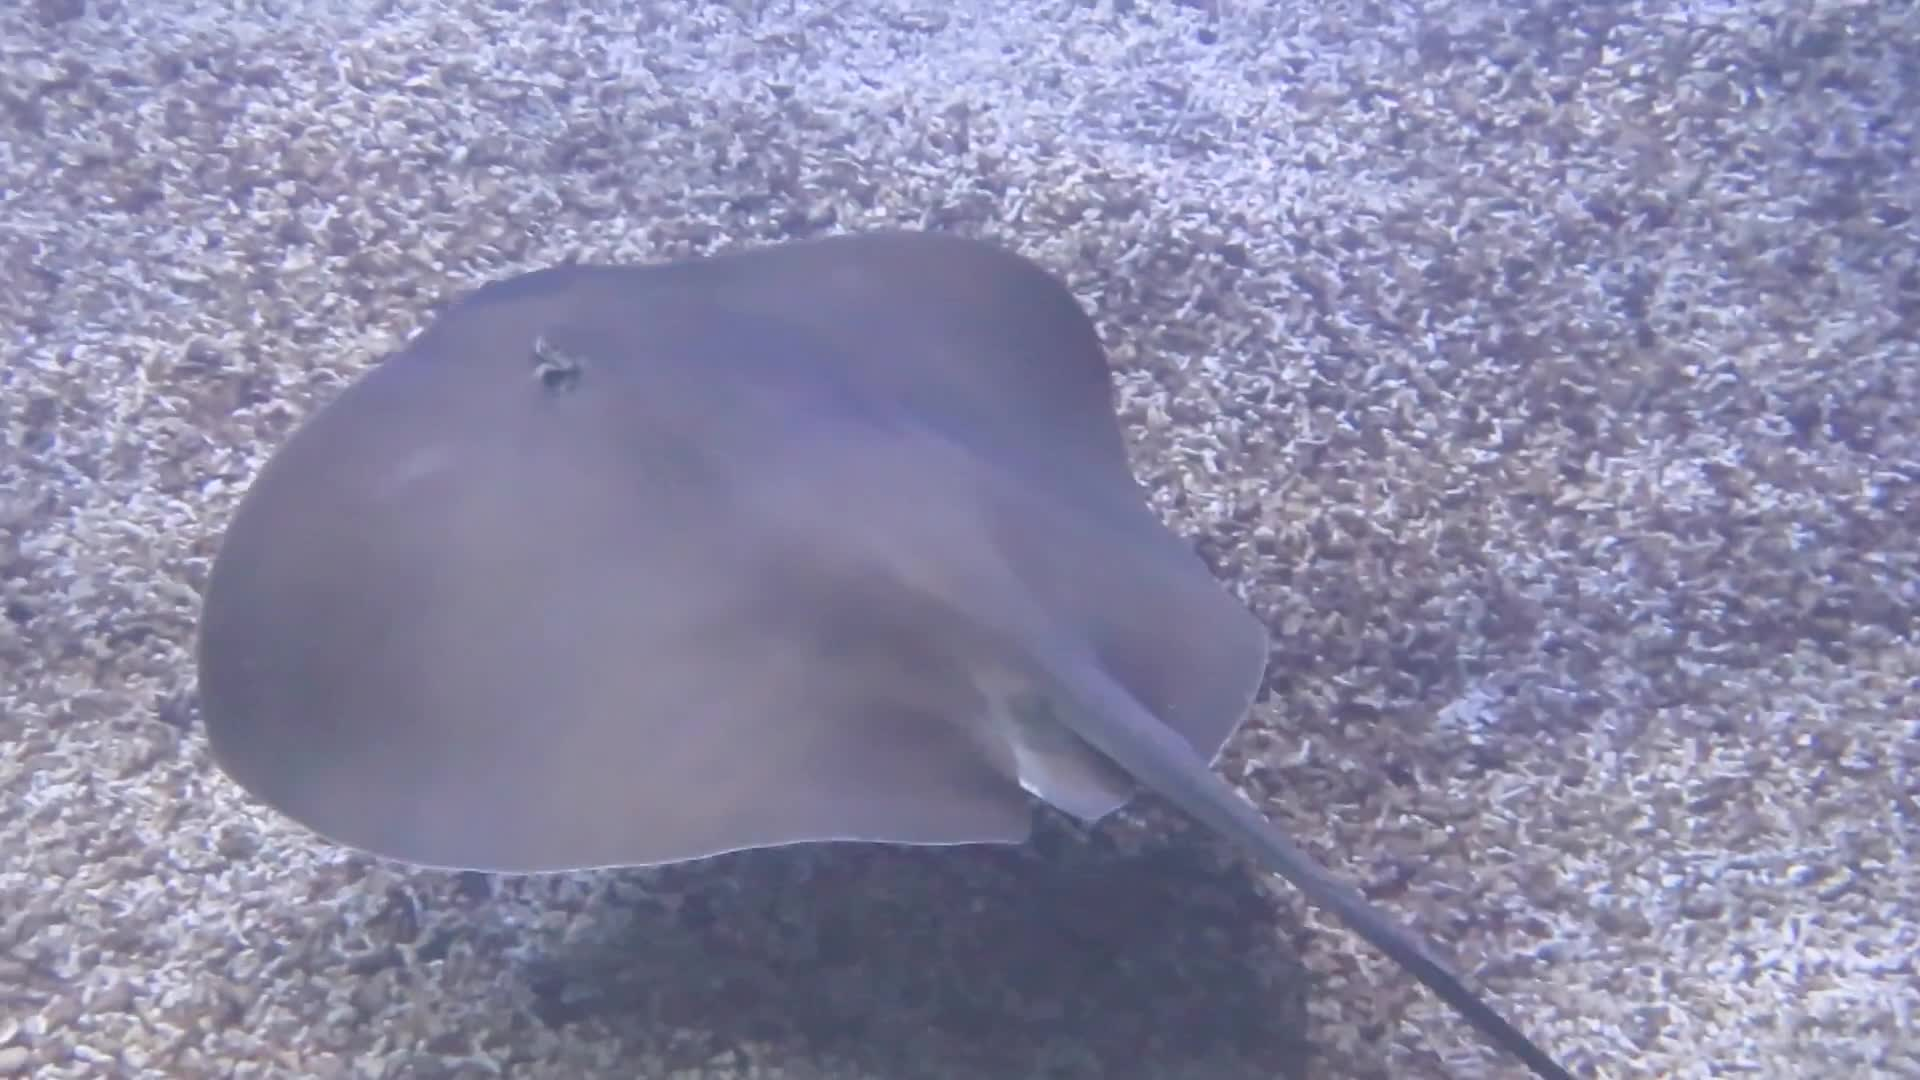Dasyatis akajei: (182, 181, 1571, 1080)
